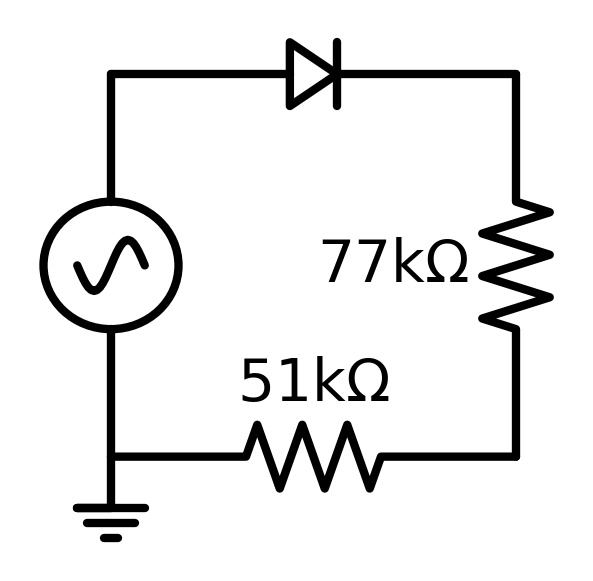diode: (267, 25, 359, 130)
ground: (57, 483, 164, 551)
resistor: (470, 181, 562, 350), (224, 409, 396, 497)
sourceac: (32, 184, 188, 342)
